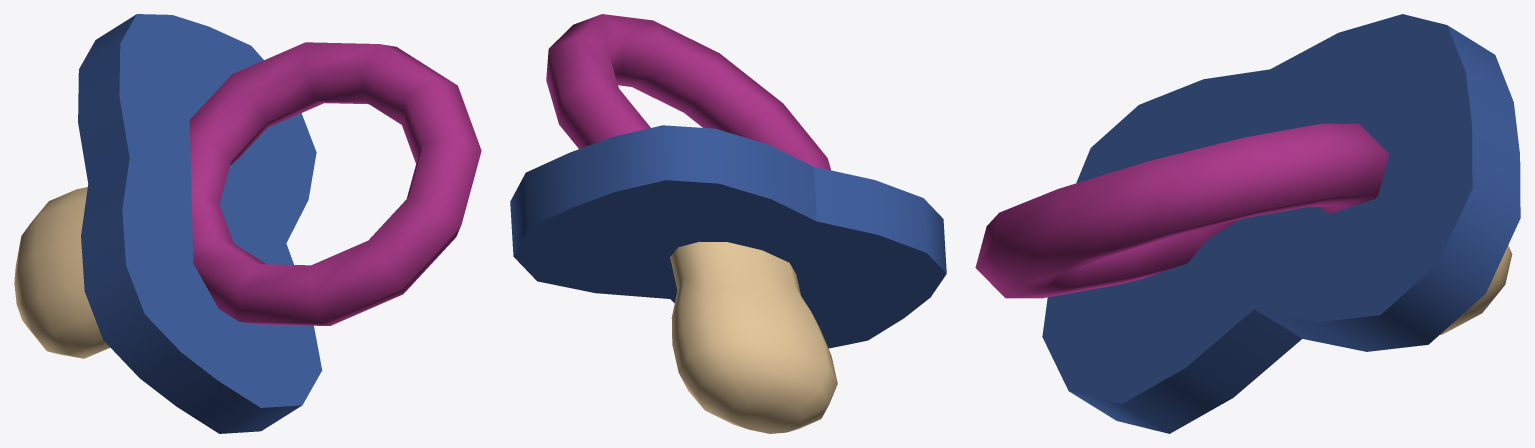
File: Bad Food 6.fbx
3 renders of one model, left to right at view 1: azimuth 30°, elevation 25°; view 2: azimuth 150°, elevation 25°; view 3: azimuth 270°, elevation 25°, orthographic. The views are drawn at different scales.
Parts seen in each view (by area): view 1: Bad Food_006; view 2: Bad Food_006; view 3: Bad Food_006.
Boxes of the visible parts, bbox=[...] form: Bad Food_006: bbox=[14, 14, 481, 433]; Bad Food_006: bbox=[510, 14, 946, 433]; Bad Food_006: bbox=[975, 14, 1520, 433].
Bounding box in the file's own units: 19.77 × 16.7 × 20.6.
